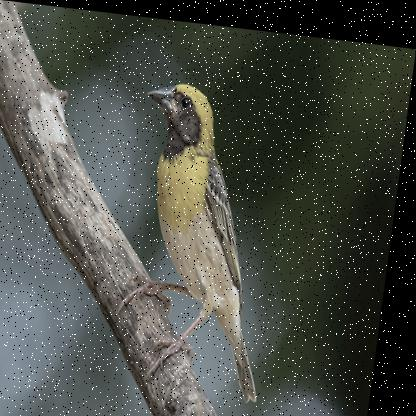Burung: (118, 75, 299, 396)
